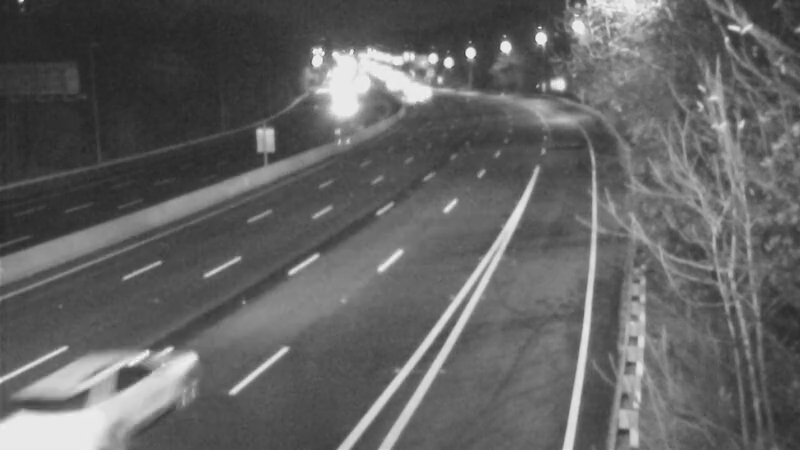vehicle: (1, 352, 111, 450)
